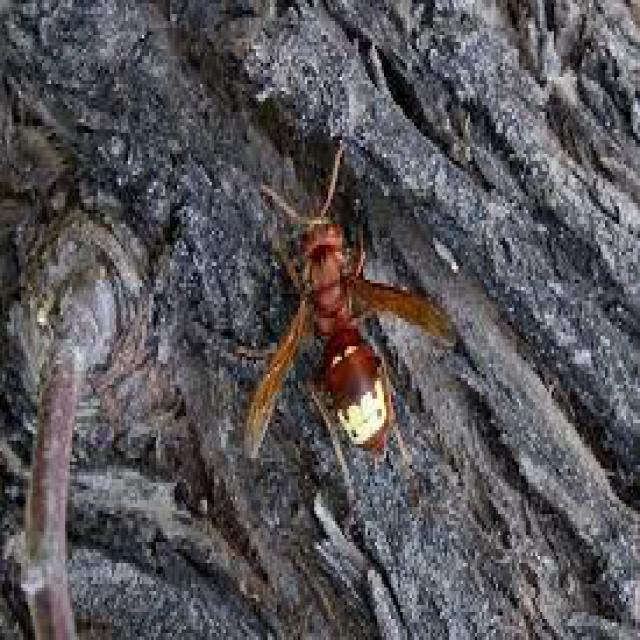Vespa Orientalis: (215, 128, 468, 486)
